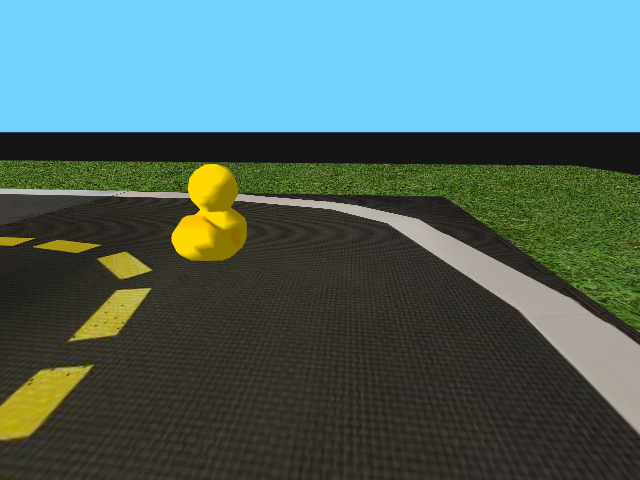Duckie: (167, 160, 253, 265)
